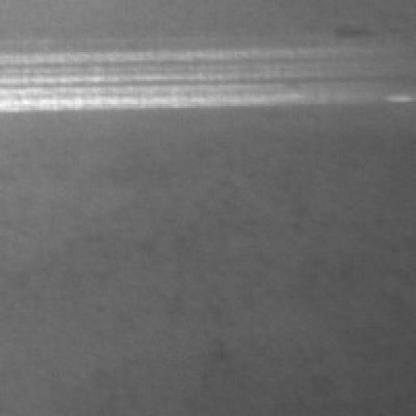scratches: (4, 50, 374, 110)
